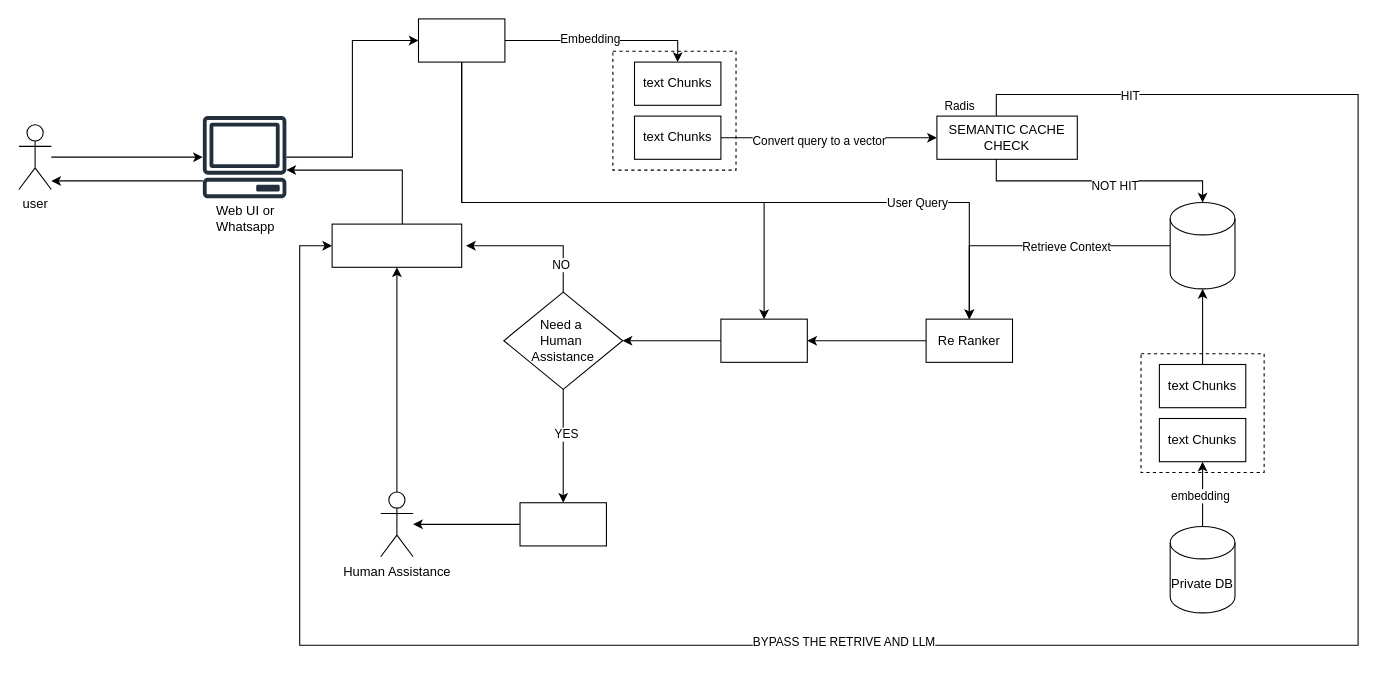
Some shapes in this 1386 by 673 pixel diagram are drawn without their labels. Here are the shapes that lost their labels. From the top down, the box of each, then its label:
(417, 18, 505, 62): Query
(331, 223, 462, 267): SEMANTIC CACHE WRITE
(1169, 201, 1235, 289): Vector DB
(720, 318, 807, 362): LLM
(519, 502, 606, 546): Query + LLM Answer
